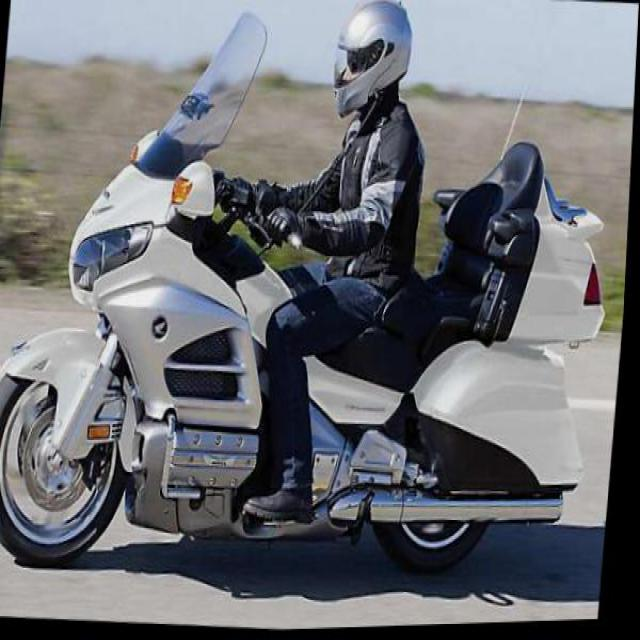Gold Wing: (0, 0, 634, 608)
